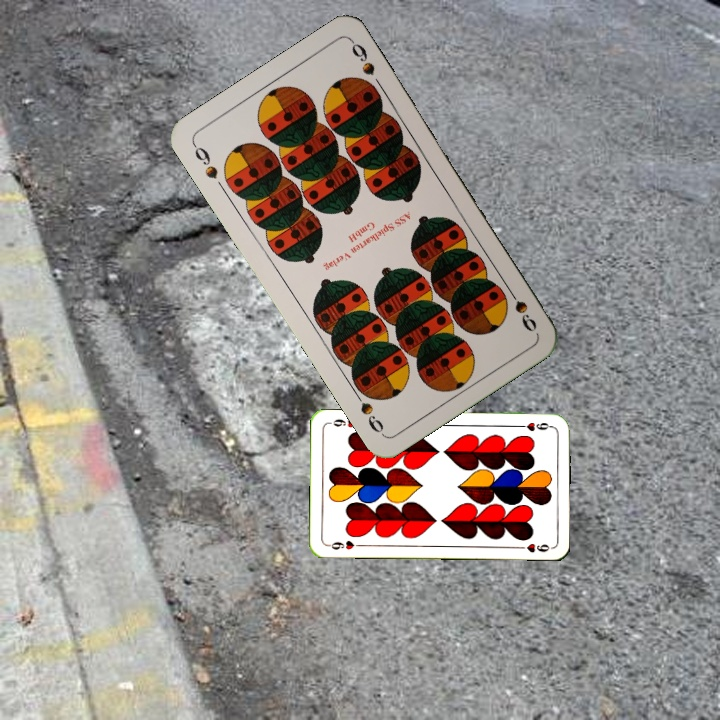H9: (514, 418, 554, 434), (324, 537, 364, 552)
S9: (502, 281, 540, 335), (188, 139, 221, 182)
